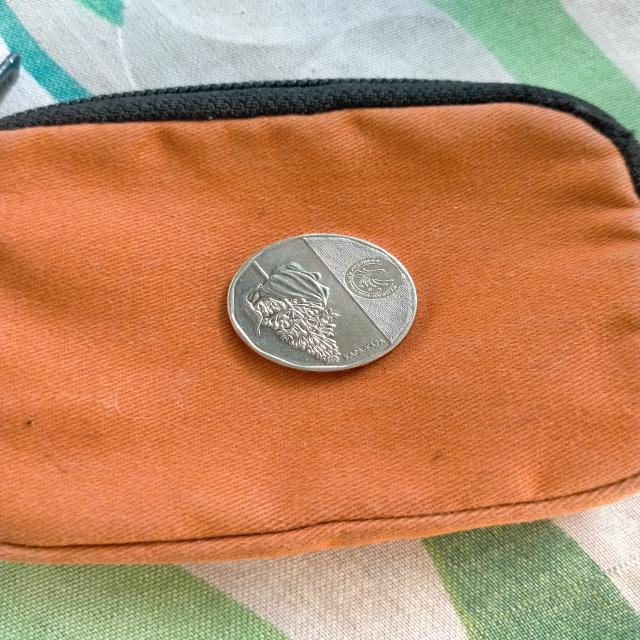10_New_Back: (249, 260, 347, 372)
